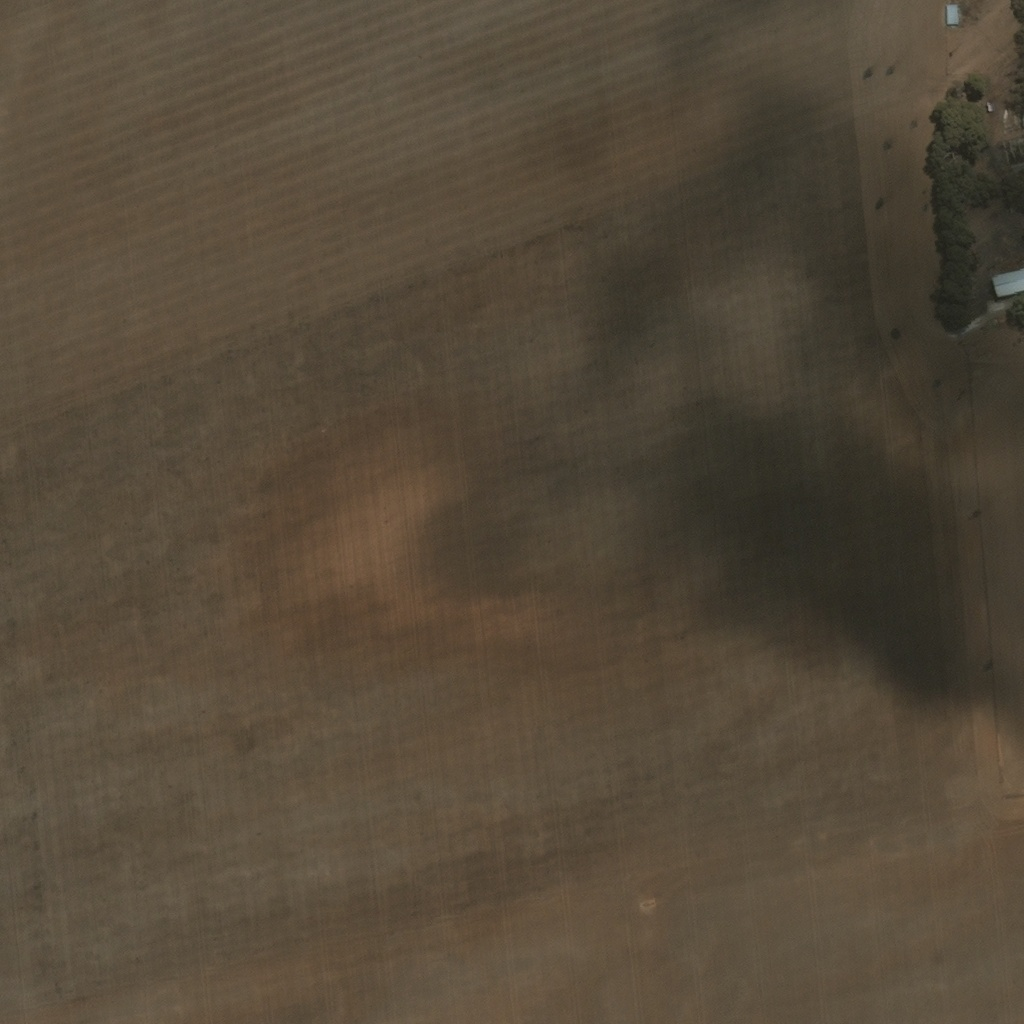0 no-damage: (992, 268, 1023, 299), (944, 4, 959, 26)
3 destroyed: (1000, 135, 1023, 166)
4 un-classified: (930, 238, 945, 252), (888, 223, 900, 235), (985, 285, 995, 294)
